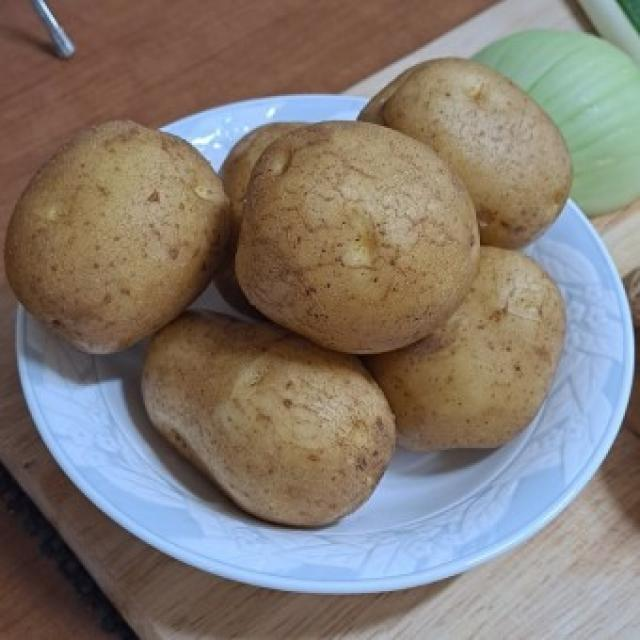onion: (460, 21, 640, 218)
potato: (136, 302, 408, 529), (230, 115, 490, 351), (7, 111, 236, 351), (341, 235, 569, 453), (344, 55, 570, 252)
